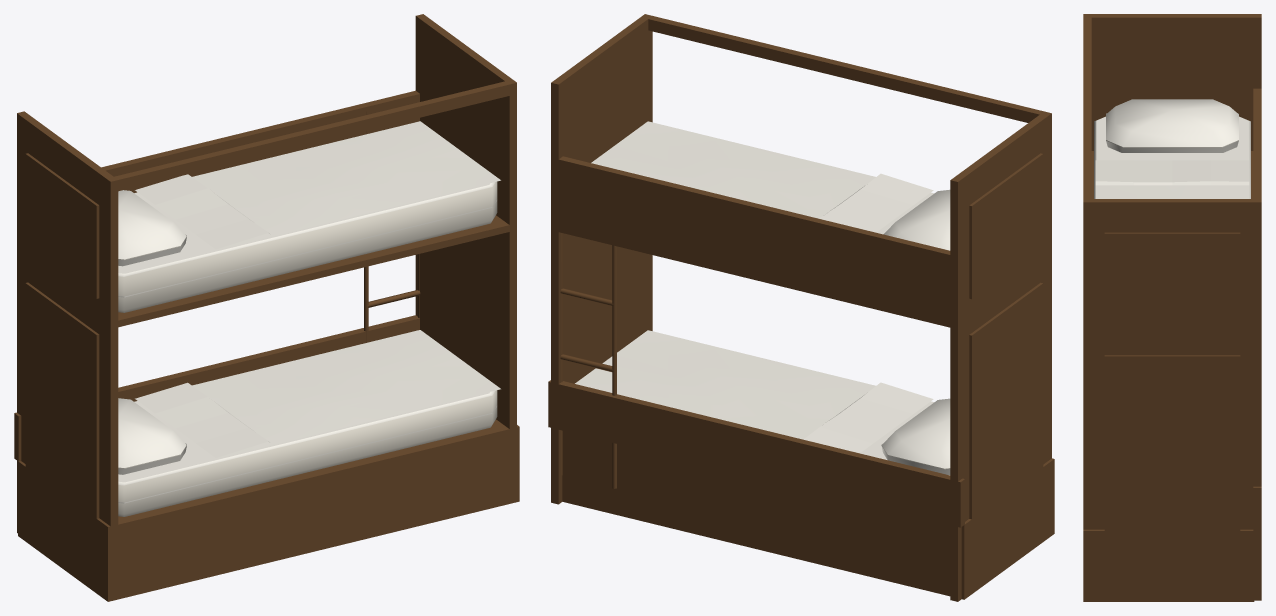
The model's file is parametric-berth_double-1st-pub.glb.
The picture shows the model from 3 angles, left to right: view 1: azimuth 30°, elevation 25°; view 2: azimuth 150°, elevation 25°; view 3: azimuth 270°, elevation 25°; orthographic projection. The views are drawn at different scales.
Visible parts, largest first — view 1: parametric-berth_double-1st-pub; view 2: parametric-berth_double-1st-pub; view 3: parametric-berth_double-1st-pub.
Boxes of the visible parts, x1,y1,x2,y2 form: parametric-berth_double-1st-pub: [14, 14, 519, 601]; parametric-berth_double-1st-pub: [548, 14, 1054, 601]; parametric-berth_double-1st-pub: [1083, 14, 1261, 601].
Bounding box in the file's own units: 1.9 × 1.85 × 0.75.
